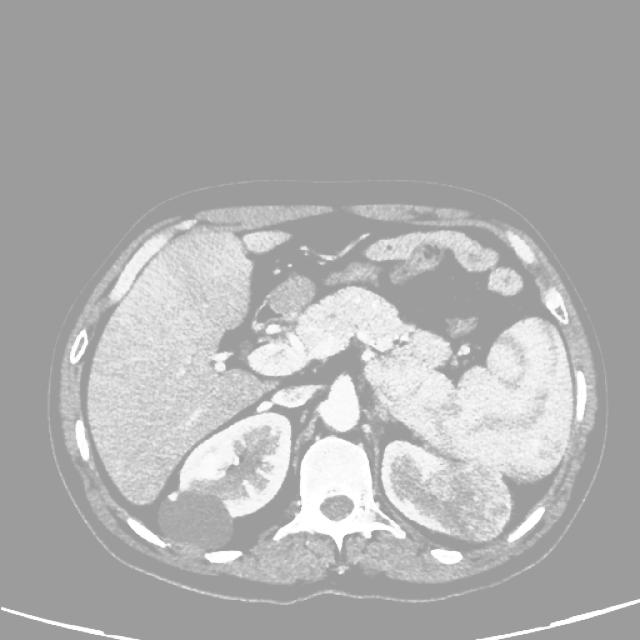TUMOR: (173, 209, 553, 557)
